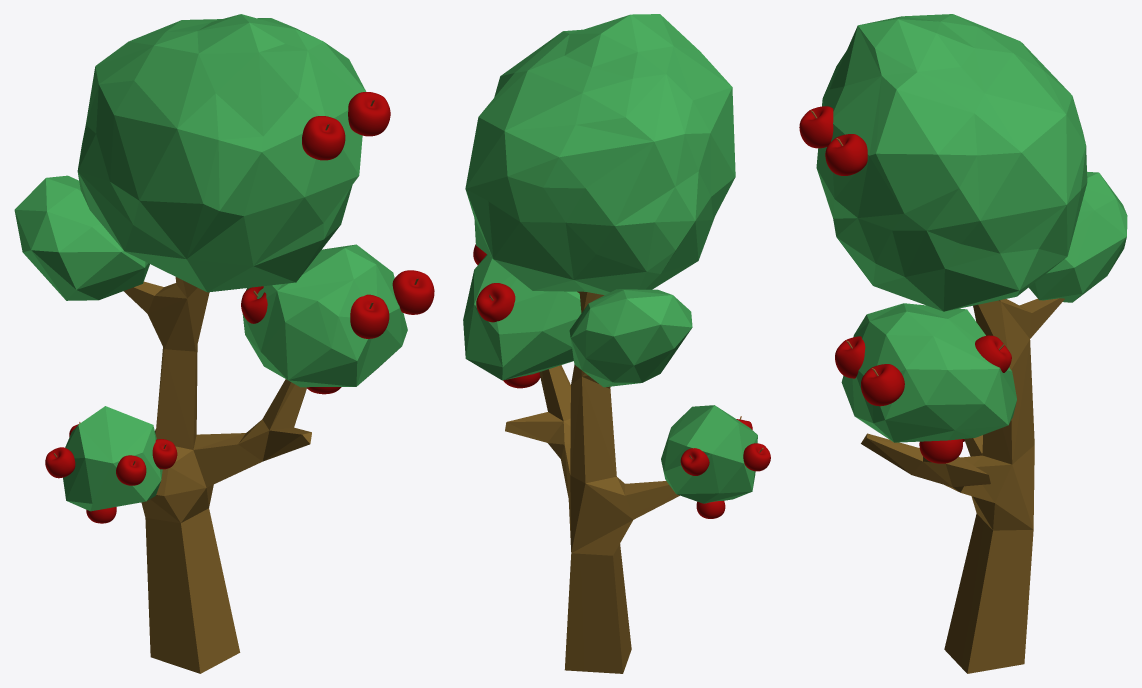
File: Apple_harvest.fbx
3 renders of one model, left to right at view 1: azimuth 30°, elevation 25°; view 2: azimuth 150°, elevation 25°; view 3: azimuth 270°, elevation 25°, orthographic. The views are drawn at different scales.
Parts seen in each view (by area): view 1: pCylinder45; view 2: pCylinder45; view 3: pCylinder45.
Boxes of the visible parts, box(x1,y1,x2,y2) form: pCylinder45: box(14, 14, 434, 673); pCylinder45: box(463, 14, 770, 673); pCylinder45: box(799, 14, 1127, 673).
Size of the model in its own units: 4.34 by 7.83 by 3.63.
